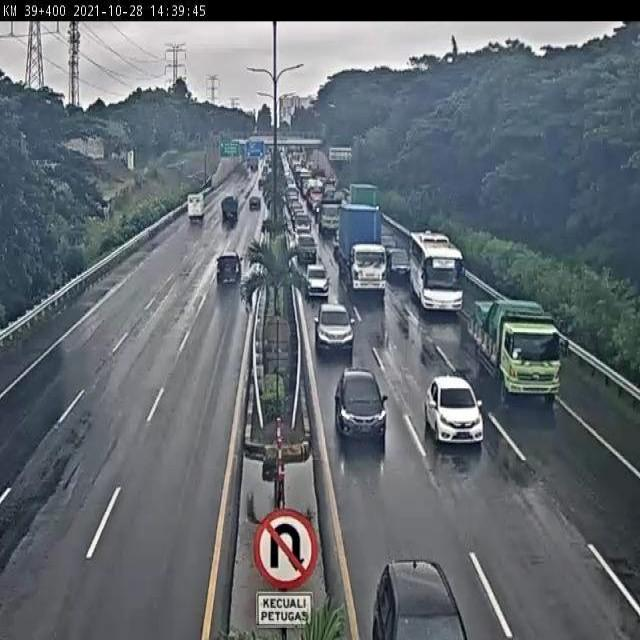big bus: (412, 228, 466, 311)
big truck: (335, 203, 388, 297)
car: (424, 376, 487, 445), (335, 369, 388, 442), (314, 300, 355, 347), (215, 252, 244, 288), (390, 244, 415, 279), (306, 265, 329, 299), (297, 236, 319, 263)
mid truck: (464, 289, 564, 402), (314, 199, 341, 233)
small truck: (187, 193, 205, 226), (220, 198, 238, 225)
